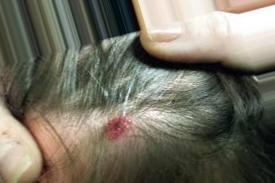Tick: (105, 116, 131, 139)
